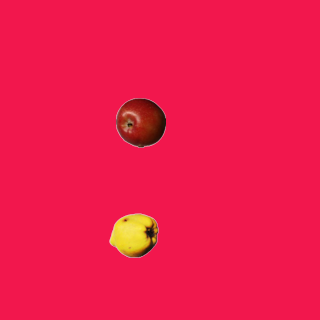Apple Braeburn: (115, 97, 165, 147)
Quince: (108, 210, 158, 260)
